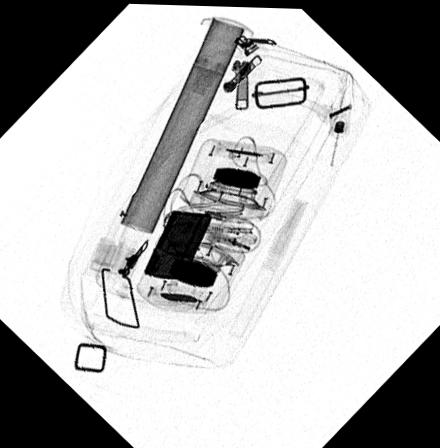Lighter: (143, 207, 213, 279)
